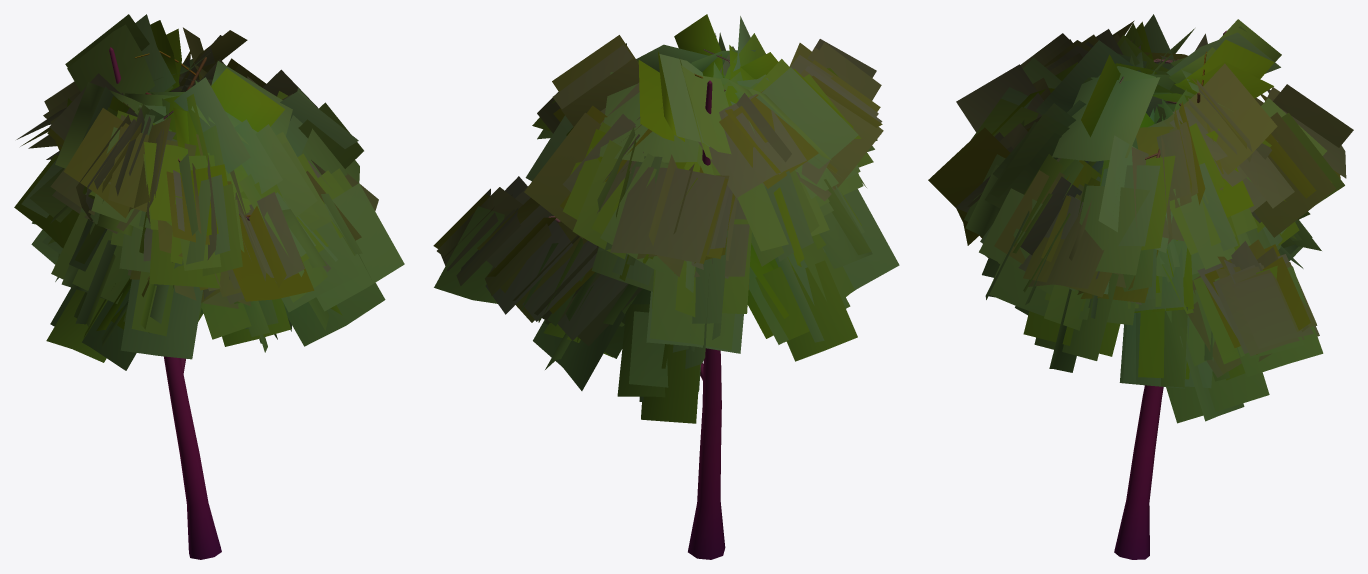
Rendered from veg_birch_b.glb.
The picture shows the model from 3 angles, left to right: view 1: azimuth 30°, elevation 25°; view 2: azimuth 150°, elevation 25°; view 3: azimuth 270°, elevation 25°; orthographic projection. The views are drawn at different scales.
Parts seen in each view (by area): view 1: veg_birch_b_LOD0; view 2: veg_birch_b_LOD0; view 3: veg_birch_b_LOD0.
Boxes of the visible parts, x1,y1,x2,y2 form: veg_birch_b_LOD0: (14,14,404,559); veg_birch_b_LOD0: (433,14,899,559); veg_birch_b_LOD0: (928,14,1353,559).
Size of what is drawn, in the model's own units: 1.92 by 2.73 by 2.01.
